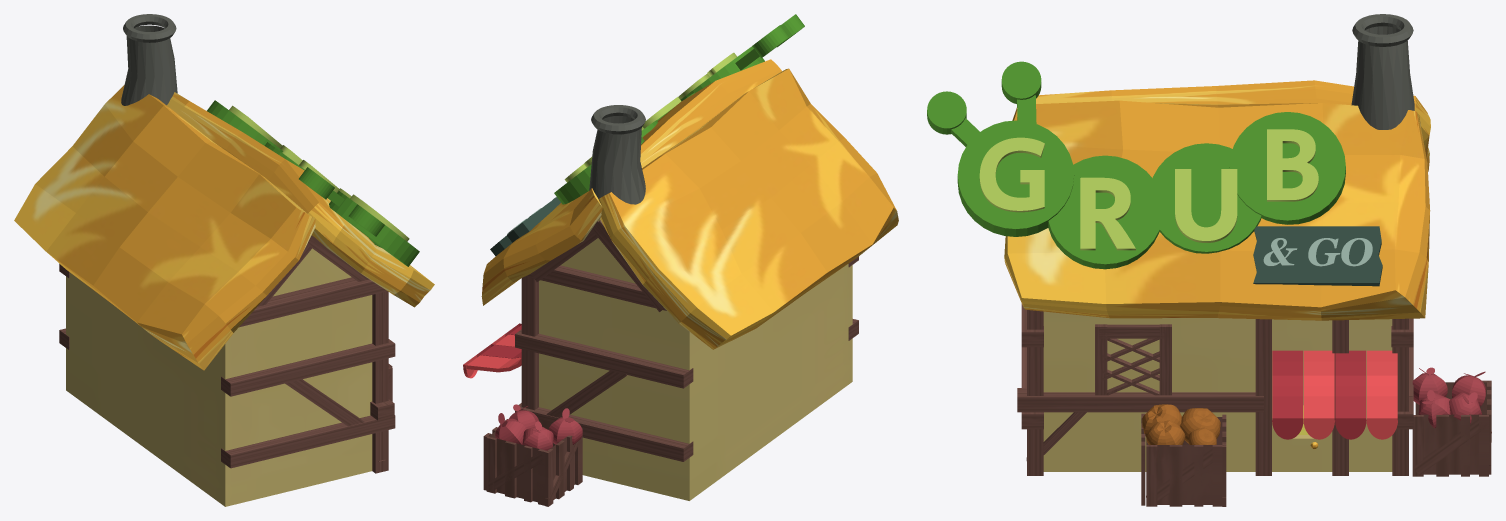
Rendered from GRUBNGO.glb.
3 renders of one model, left to right at view 1: azimuth 30°, elevation 25°; view 2: azimuth 150°, elevation 25°; view 3: azimuth 270°, elevation 25°, orthographic. The views are drawn at different scales.
Visible parts, largest first — view 1: Cube.016, Cube, Cube.015, Cube.023, Cylinder.006, Cube.024, Cube.020, Cube.001, Cylinder, Torus, Cube.025, Cylinder.003 (+3 smaller); view 2: Cube.016, Cube, Cube.015, Cube.027, Cylinder.006, Cube.008, Cube.009, Cube.006, Cube.017, Torus, Cube.010, Cube.014 (+9 smaller); view 3: Cube.015, Cube, Cylinder, Cylinder.003, Cylinder.001, Cube.030, Cylinder.002, Cube.016, Cube.026, Cube.027, Cube.002, Cylinder.006 (+24 smaller).
Boxes of the visible parts, left/top/right/bottom form: Cube.016: left=14, top=85, right=315, bottom=370; Cube: left=66, top=248, right=372, bottom=506; Cube.015: left=167, top=92, right=434, bottom=307; Cube.023: left=221, top=339, right=395, bottom=396; Cylinder.006: left=121, top=25, right=177, bottom=105; Cube.024: left=221, top=415, right=395, bottom=468; Cube.020: left=239, top=277, right=386, bottom=327; Cube.001: left=372, top=291, right=388, bottom=473; Cylinder: left=329, top=191, right=419, bottom=266; Torus: left=123, top=14, right=176, bottom=42; Cube.025: left=285, top=379, right=364, bottom=426; Cylinder.003: left=207, top=100, right=283, bottom=152; Cube.016: left=598, top=68, right=898, bottom=349; Cube: left=539, top=238, right=852, bottom=500; Cube.015: left=481, top=59, right=781, bottom=305; Cube.027: left=483, top=419, right=582, bottom=506; Cylinder.006: left=589, top=116, right=645, bottom=204; Cube.008: left=515, top=329, right=693, bottom=388; Cube.009: left=515, top=403, right=693, bottom=461; Cube.006: left=521, top=276, right=538, bottom=410; Cube.017: left=525, top=265, right=666, bottom=310; Torus: left=591, top=105, right=645, bottom=134; Cube.010: left=546, top=371, right=627, bottom=417; Cube.014: left=463, top=354, right=521, bottom=378; Cube.015: left=1004, top=100, right=1430, bottom=320; Cube: left=1043, top=311, right=1392, bottom=471; Cylinder: left=957, top=120, right=1074, bottom=236; Cylinder.003: left=1229, top=112, right=1345, bottom=224; Cylinder.001: left=1048, top=155, right=1163, bottom=269; Cube.030: left=1253, top=226, right=1382, bottom=286; Cylinder.002: left=1148, top=143, right=1261, bottom=253; Cube.016: left=1012, top=80, right=1430, bottom=171; Cube.026: left=1141, top=413, right=1226, bottom=506; Cube.027: left=1412, top=380, right=1491, bottom=476; Cube.002: left=1017, top=388, right=1263, bottom=412; Cylinder.006: left=1351, top=26, right=1414, bottom=129.
Size of the model in its own units: 9.48 by 11.59 by 14.7.
Materials: 13 (6 with a texture image).
